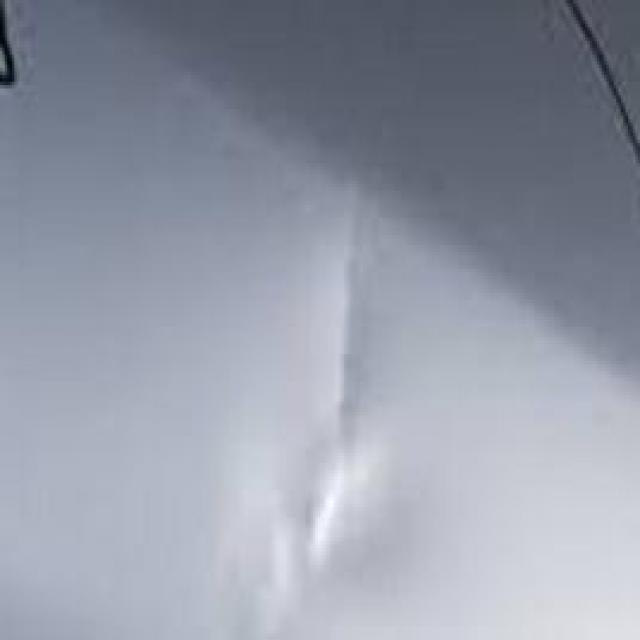dent: (263, 174, 407, 586)
